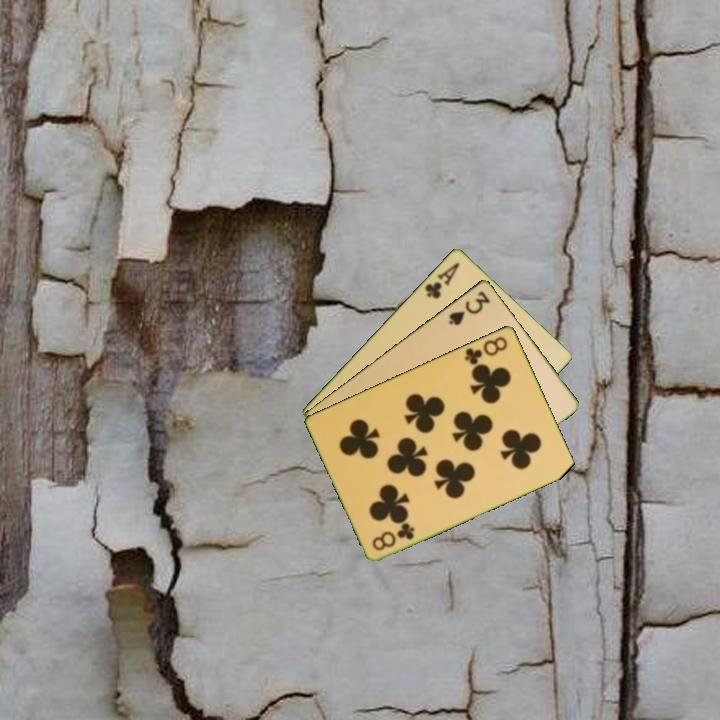3s: (445, 287, 493, 328)
8c: (461, 332, 511, 368), (368, 519, 418, 553)
Ac: (421, 258, 462, 301)
